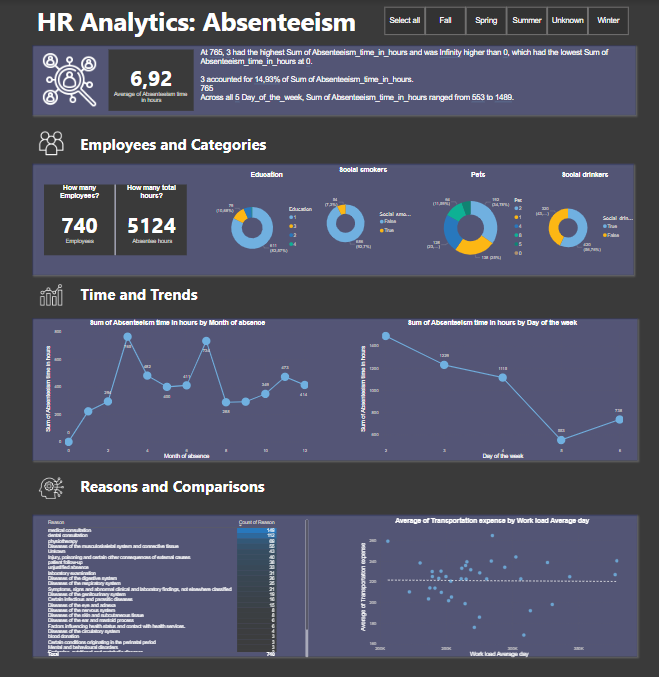

What the dashboard file says about the page in this screenshot:
{"tool":"powerbi","page":{"name":"Strona 1","canvas":[1880,1920],"ordinal":0},"visuals":[{"type":"shape","box":[92,1444,1728,420],"z":0},{"type":"shape","box":[92.1,892.1,1728.9,421.1],"z":1000},{"type":"shape","box":[91.9,118.9,1724.3,216.2],"z":2000},{"type":"shape","box":[92.6,451.9,1718.5,333.3],"z":3000},{"type":"card","fields":{"Values":["Avg(Zapytanie1.Absenteeism_time_in_hours)"]},"box":[318.4,140.8,240.8,173.5],"z":4000},{"type":"donutChart","title":"Education","fields":{"Y":["CountNonNull(Zapytanie1.Education)"],"Category":["Zapytanie1.Education"]},"box":[613.8,482.6,300,300],"z":5000},{"type":"donutChart","title":"Social smokers","fields":{"Y":["CountNonNull(Zapytanie1.Social_smoker)"],"Category":["Zapytanie1.Social_smoker"]},"box":[887,469.6,300,300],"z":6000},{"type":"donutChart","title":"Pets","fields":{"Y":["Sum(Zapytanie1.Pet)"],"Category":["Zapytanie1.Pet"]},"box":[1213.8,482.6,300,300],"z":7000},{"type":"donutChart","title":"Social drinkers","fields":{"Y":["CountNonNull(Zapytanie1.Social_drinker)"],"Category":["Zapytanie1.Social_drinker"]},"box":[1515,483.8,300,300],"z":8000},{"type":"lineChart","fields":{"Category":["Zapytanie1.Month_of_absence"],"Y":["Sum(Zapytanie1.Absenteeism_time_in_hours)"]},"box":[135.9,902.6,751.3,400],"z":9000},{"type":"lineChart","fields":{"Category":["Zapytanie1.Day_of_the_week"],"Y":["Sum(Zapytanie1.Absenteeism_time_in_hours)"]},"box":[1025.6,902.6,751.3,400],"z":10000},{"type":"tableEx","fields":{"Values":["Zapytanie1.Reason","CountNonNull(Zapytanie1.Reason)"]},"box":[136.8,1463.2,752.6,400],"z":11000},{"type":"scatterChart","fields":{"Y":["Avg(Zapytanie1.Transportation_expense)"],"X":["Zapytanie1.Work_load_Average_day"]},"box":[1026.3,1463.2,752.6,400],"z":12000},{"type":"card","title":"How many Employees?","fields":{"Values":["CountNonNull(Zapytanie1.ID)"]},"box":[137,519.6,200,200],"z":13000},{"type":"card","title":"How many total hours?","fields":{"Values":["Sum(Zapytanie1.Absenteeism_time_in_hours)"]},"box":[339.1,519.6,200,200],"z":14000},{"type":"slicer","fields":{"Values":["Zapytanie1.Season_Names"]},"box":[1071.8,12.8,738.5,92.3],"z":15000},{"type":"textbox","box":[109.1,6.1,1045.5,133.3],"z":16000},{"type":"textbox","box":[232,372,1052,72],"z":17000},{"type":"textbox","box":[232,796,1052,76],"z":18000},{"type":"textbox","box":[232,1340,1052,80],"z":19000},{"type":"image","box":[126.5,132.7,161.2,187.8],"z":20000},{"type":"image","box":[108,1340,100,80],"z":21000},{"type":"image","box":[108,792,100,80],"z":22000},{"type":"image","box":[108,364,100,80],"z":23000},{"type":"textbox","box":[574.2,132.3,1203.2,190.3],"z":24000},{"type":"shape","box":[187,519.6,300,200],"z":25000}]}

Visuals, with their boxes in screenshot pixels (x1, y1, x2, y2), scaled from the page's 1880x1920 canvas onto the 659x677 screenshot:
shape: crop(32, 509, 638, 657)
shape: crop(32, 315, 638, 463)
shape: crop(32, 42, 637, 118)
shape: crop(32, 159, 635, 277)
card - Avg(Zapytanie1.Absenteeism_time_in_hours): crop(112, 50, 196, 111)
"Education" donutChart: crop(215, 170, 320, 276)
"Social smokers" donutChart: crop(311, 166, 416, 271)
"Pets" donutChart: crop(425, 170, 531, 276)
"Social drinkers" donutChart: crop(531, 171, 636, 276)
lineChart - Zapytanie1.Month_of_absence x Sum(Zapytanie1.Absenteeism_time_in_hours): crop(48, 318, 311, 459)
lineChart - Zapytanie1.Day_of_the_week x Sum(Zapytanie1.Absenteeism_time_in_hours): crop(360, 318, 623, 459)
tableEx - Zapytanie1.Reason x CountNonNull(Zapytanie1.Reason): crop(48, 516, 312, 657)
scatterChart - Avg(Zapytanie1.Transportation_expense) x Zapytanie1.Work_load_Average_day: crop(360, 516, 624, 657)
"How many Employees?" card: crop(48, 183, 118, 254)
"How many total hours?" card: crop(119, 183, 189, 254)
slicer - Zapytanie1.Season_Names: crop(376, 5, 635, 37)
textbox: crop(38, 2, 405, 49)
textbox: crop(81, 131, 450, 157)
textbox: crop(81, 281, 450, 307)
textbox: crop(81, 472, 450, 501)
image: crop(44, 47, 101, 113)
image: crop(38, 472, 73, 501)
image: crop(38, 279, 73, 307)
image: crop(38, 128, 73, 157)
textbox: crop(201, 47, 623, 114)
shape: crop(66, 183, 171, 254)
